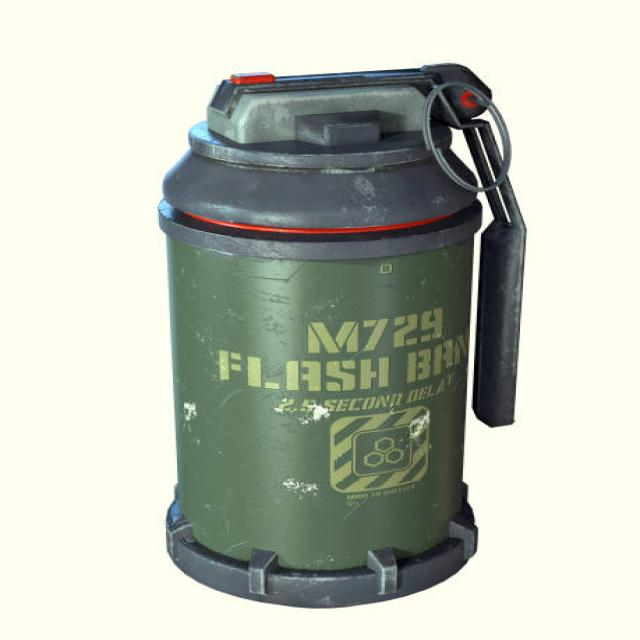grenade: (142, 51, 550, 619)
